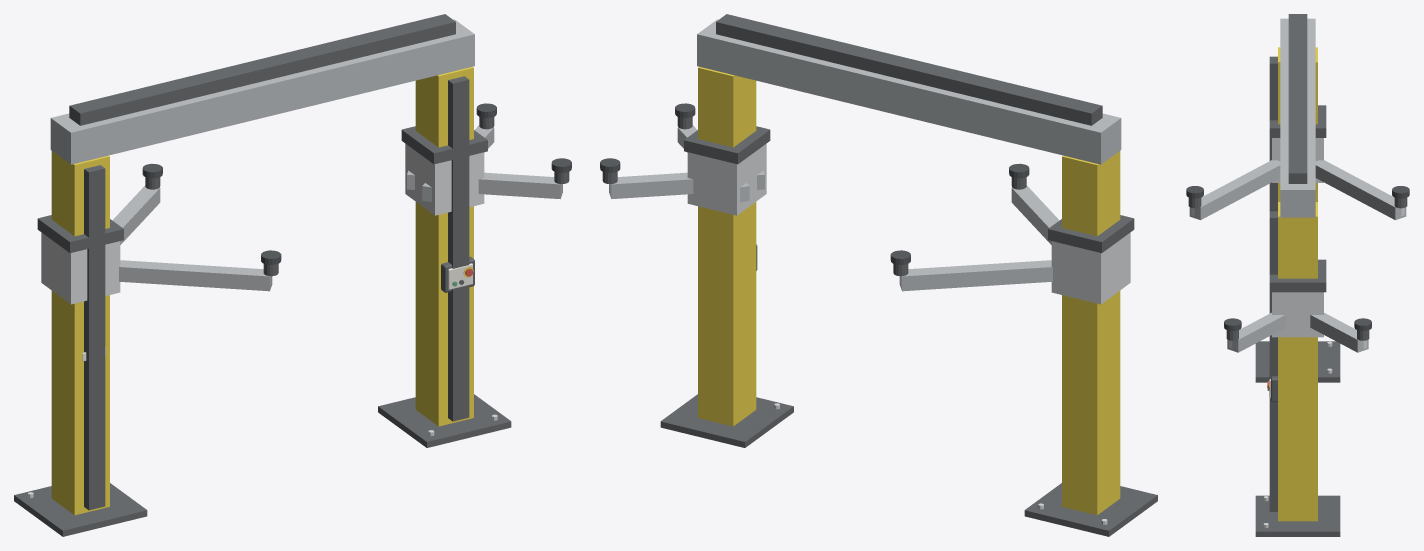
File: car-repair-garage-and-mot-workshop-car-repair-garage-a-93478fc8__33999.glb
3 views of the same model, side by side, from view 1: azimuth 30°, elevation 25°; view 2: azimuth 150°, elevation 25°; view 3: azimuth 270°, elevation 25° (orthographic). The views are drawn at different scales.
Visible parts, largest first — view 1: car-repair-garage-and-mot-workshop-two-post-vehicle-lift-rai (×3), lift-carriage (×4); view 2: car-repair-garage-and-mot-workshop-two-post-vehicle-lift-rai (×3), lift-carriage (×4); view 3: car-repair-garage-and-mot-workshop-two-post-vehicle-lift-rai (×3), lift-carriage (×4).
Part boxes in pixels (x1,y1,x2,y2): car-repair-garage-and-mot-workshop-two-post-vehicle-lift-rai (×3): (14, 14, 511, 536); lift-carriage (×4): (37, 103, 571, 304); car-repair-garage-and-mot-workshop-two-post-vehicle-lift-rai (×3): (660, 14, 1157, 536); lift-carriage (×4): (600, 103, 1134, 304); car-repair-garage-and-mot-workshop-two-post-vehicle-lift-rai (×3): (1255, 14, 1340, 536); lift-carriage (×4): (1186, 105, 1409, 352).
Bounding box in the file's own units: 4.21 × 3.26 × 1.9.
